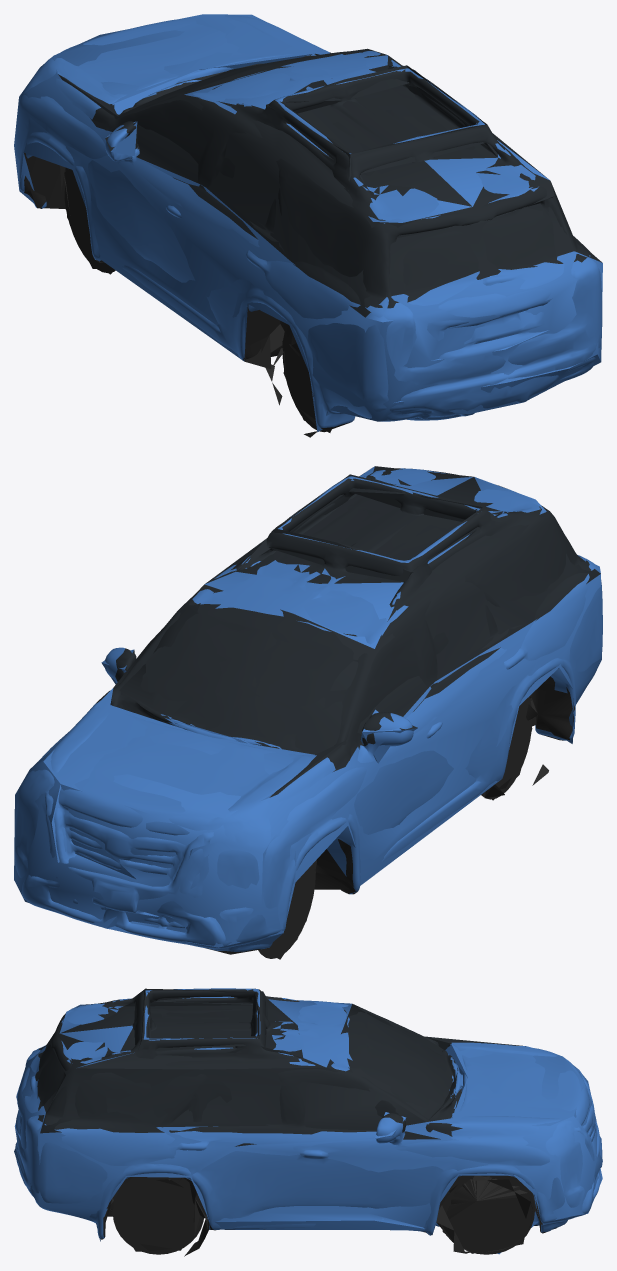
File: nissan-pathfinder.glb
The picture shows the model from 3 angles, top to bottom: view 1: azimuth 30°, elevation 25°; view 2: azimuth 150°, elevation 25°; view 3: azimuth 270°, elevation 25°; orthographic projection. The views are drawn at different scales.
Parts seen in each view (by area): view 1: body, far; view 2: body, far; view 3: body, far.
Boxes of the visible parts, left/top/right/bottom form: body: left=15, top=15, right=602, bottom=437; far: left=14, top=14, right=602, bottom=432; body: left=14, top=468, right=602, bottom=958; far: left=14, top=466, right=601, bottom=959; body: left=15, top=988, right=602, bottom=1256; far: left=14, top=988, right=602, bottom=1254.
Bounding box in the file's own units: 2.36 × 2.05 × 5.19.
